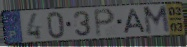0: (46, 11, 66, 40)
3: (72, 10, 92, 38)
4: (24, 12, 45, 41)
A: (123, 8, 148, 35)
M: (142, 4, 172, 36)
P: (92, 7, 117, 38)
